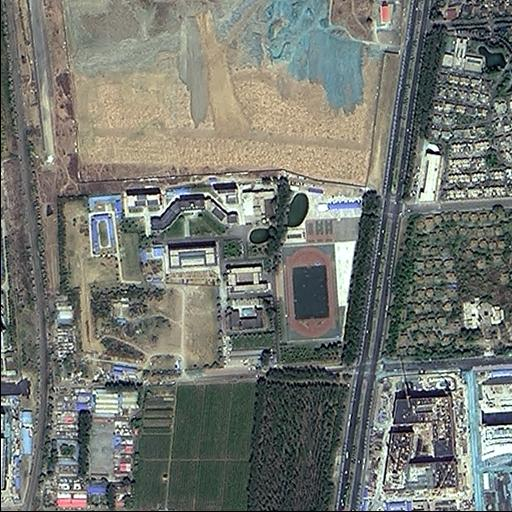school: (126, 182, 365, 365)
